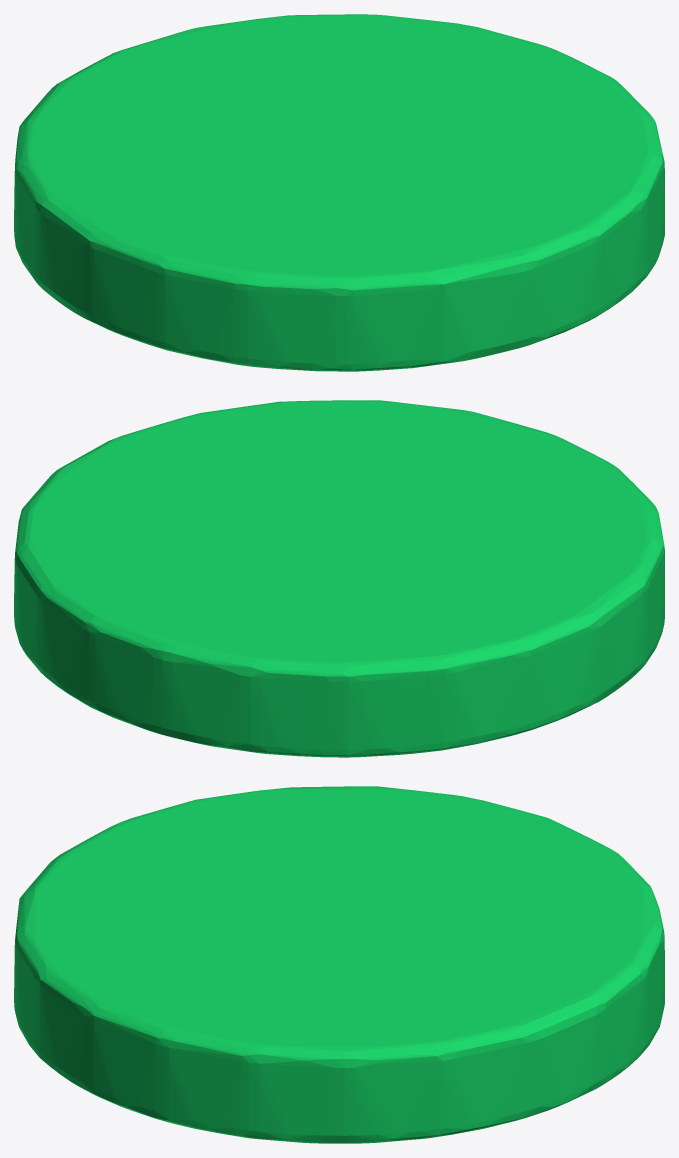
Rendered from right_hip_pitch_link_part_23.obj.
3 renders of one model, top to bottom at view 1: azimuth 30°, elevation 25°; view 2: azimuth 150°, elevation 25°; view 3: azimuth 270°, elevation 25°, orthographic.
Size of the model in its own units: 0.1108 by 0.0175 by 0.1107.
